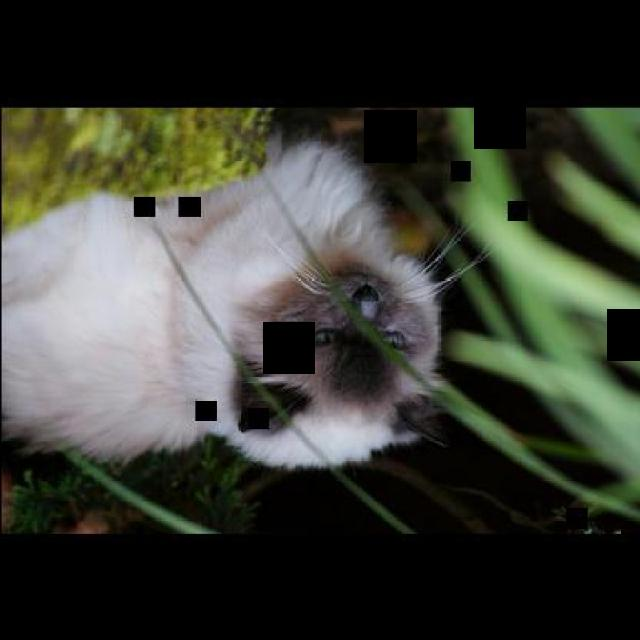unauthorized: (0, 130, 491, 472)
